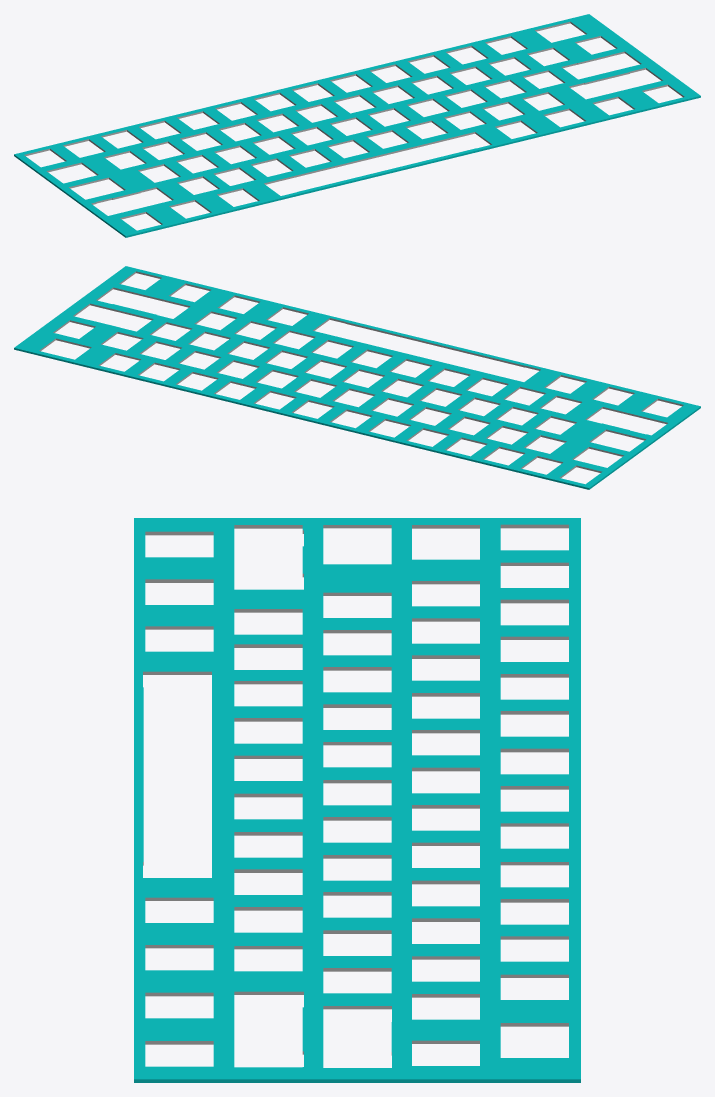
Rendered from 60plateTailored.fbx.
The picture shows the model from 3 angles, top to bottom: view 1: azimuth 30°, elevation 25°; view 2: azimuth 150°, elevation 25°; view 3: azimuth 270°, elevation 25°; orthographic projection. The views are drawn at different scales.
Visible parts, largest first — view 1: plate2; view 2: plate2; view 3: plate2.
Part boxes in pixels (x1,y1,x2,y2): plate2: [14, 14, 700, 237]; plate2: [14, 266, 700, 489]; plate2: [134, 518, 580, 1082].
Bounding box in the file's own units: 35.27 × 0.1046 × 11.88.
